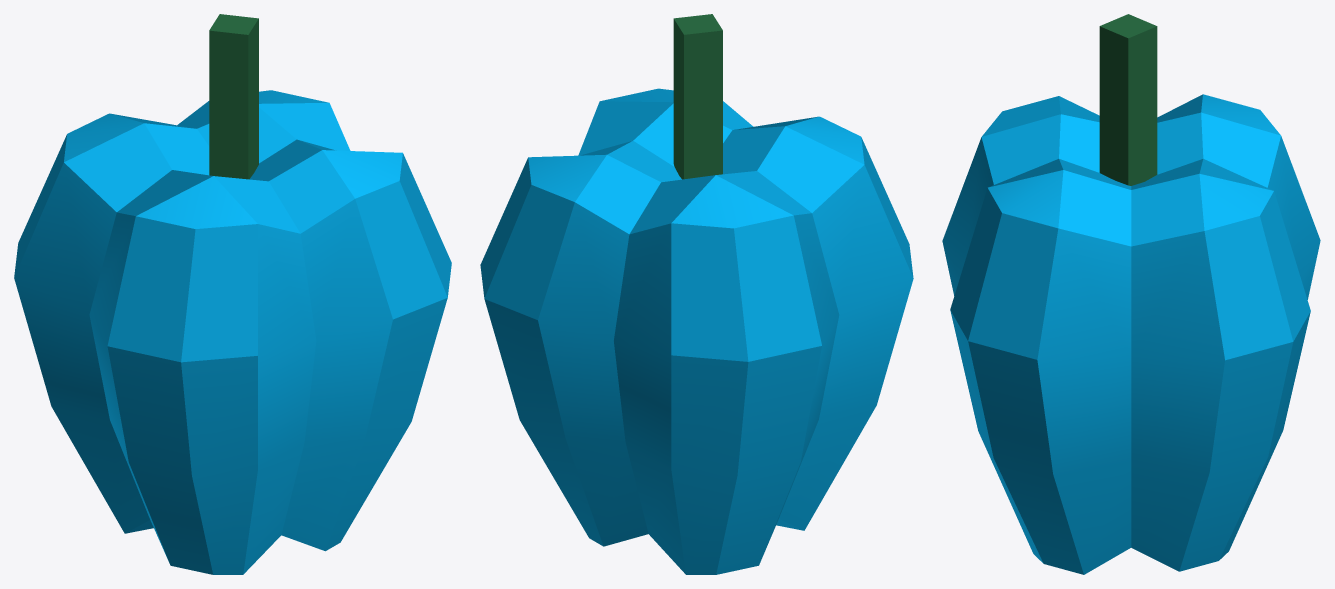
The model's file is bellpepper_2.FBX.
The picture shows the model from 3 angles, left to right: view 1: azimuth 30°, elevation 25°; view 2: azimuth 150°, elevation 25°; view 3: azimuth 270°, elevation 25°; orthographic projection.
Parts seen in each view (by area): view 1: bellpepper_2; view 2: bellpepper_2; view 3: bellpepper_2.
Part boxes in pixels (x1,y1,x2,y2): bellpepper_2: (14, 14, 451, 574); bellpepper_2: (480, 14, 913, 574); bellpepper_2: (942, 14, 1320, 574).
Size of the model in its own units: 0.1367 by 0.1918 by 0.1291.
Materials: 1 (1 with a texture image).
